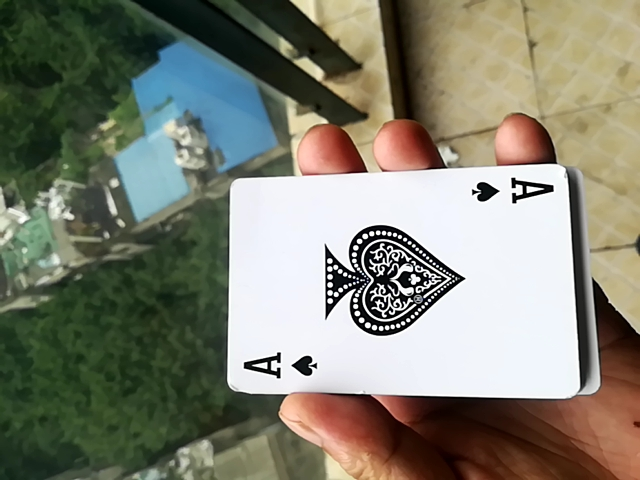ht a: (219, 164, 584, 408)
